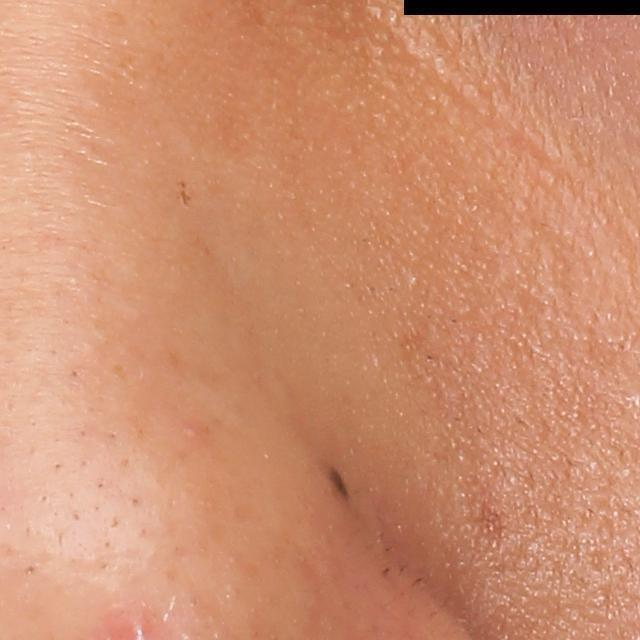melasma: (454, 482, 527, 555), (372, 309, 438, 380), (175, 174, 195, 216)
nevus: (318, 457, 355, 511)
